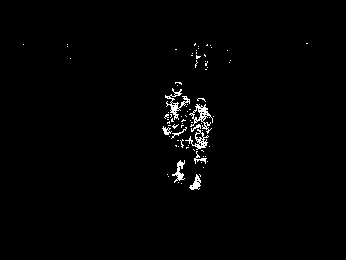person: (162, 81, 192, 182), (188, 97, 215, 194)
